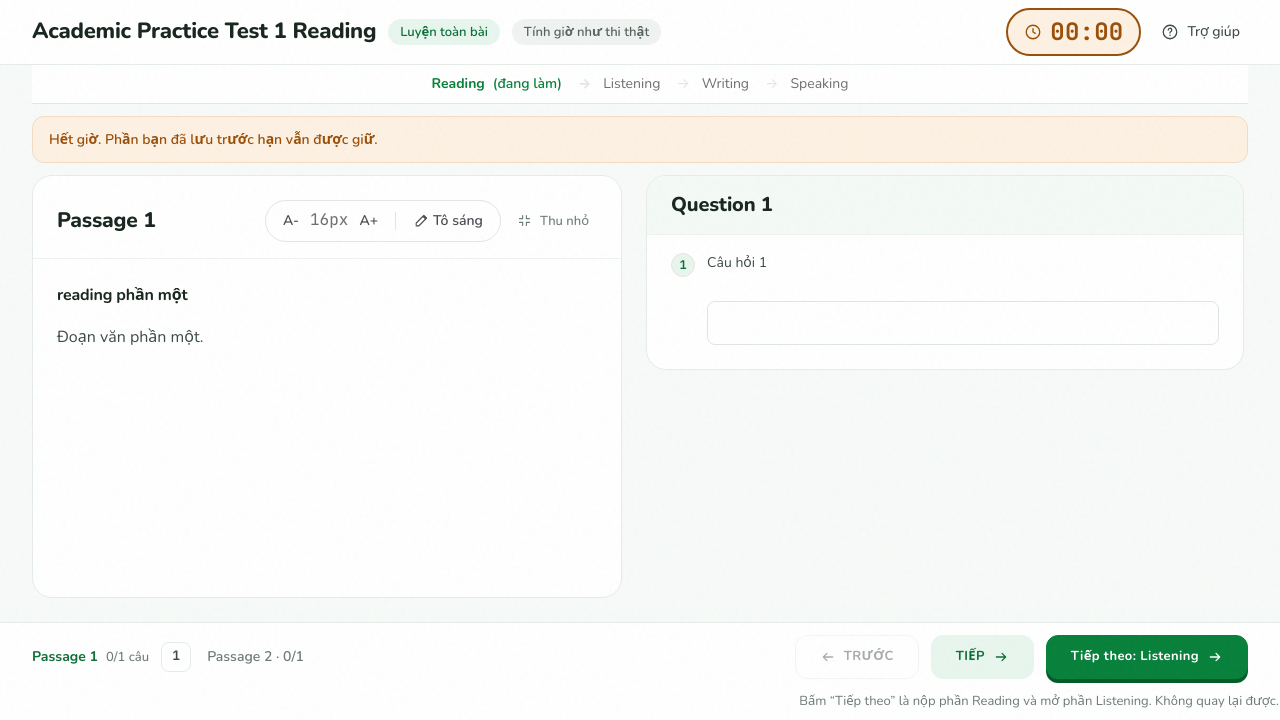
Test: carries no expiry latch from one section into the next
The image size is (1280, 720).
Expected: the heading "reading phần một" is shown, left=57, top=284, right=188, bottom=306
Expected: the field labelled "1 Câu hỏi 1" is disabled, left=707, top=301, right=1219, bottom=345
Click the button "Tiếp theo: Listening" at (1147,656), box left=1046, top=634, right=1248, bottom=678
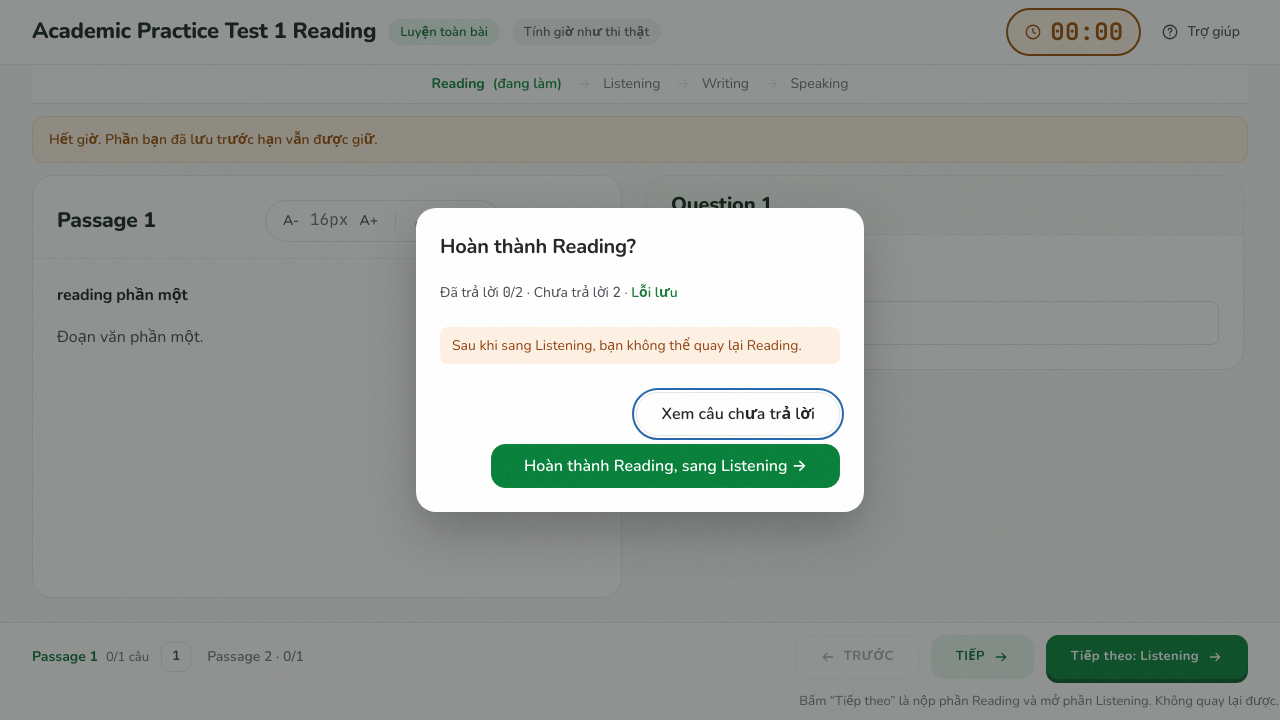
Click the button "Hoàn thành Reading, sang Listening →" at (666,466), box left=491, top=444, right=840, bottom=488
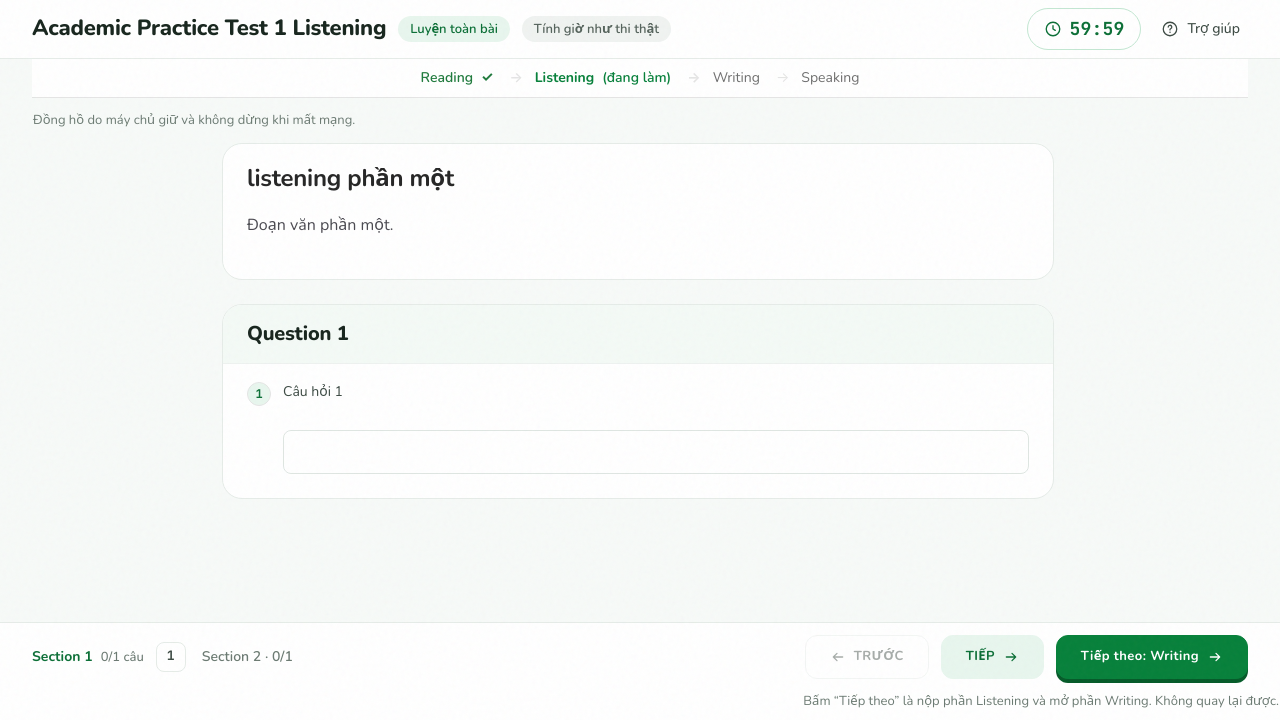
Result: the heading "listening phần một" is shown at left=247, top=162, right=454, bottom=194
Result: the field labelled "1 Câu hỏi 1" is enabled at left=283, top=430, right=1029, bottom=474
Result: no messages with class "exam-expired" are shown
